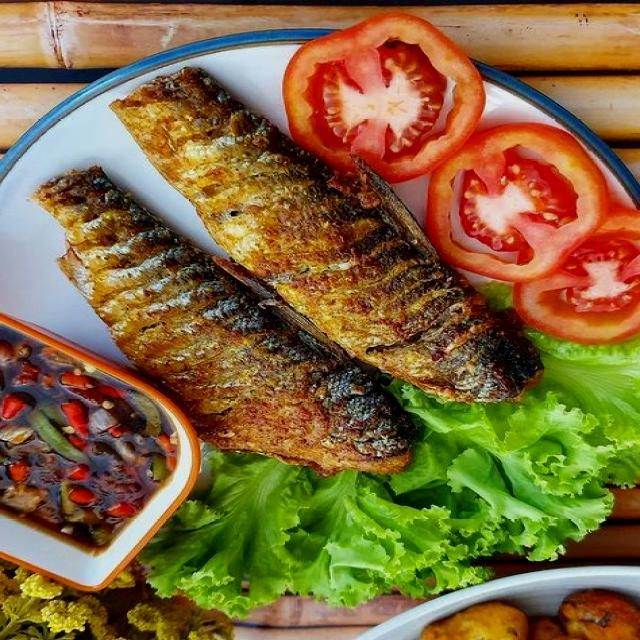ikan bakar: (109, 66, 545, 403), (32, 162, 423, 475)
